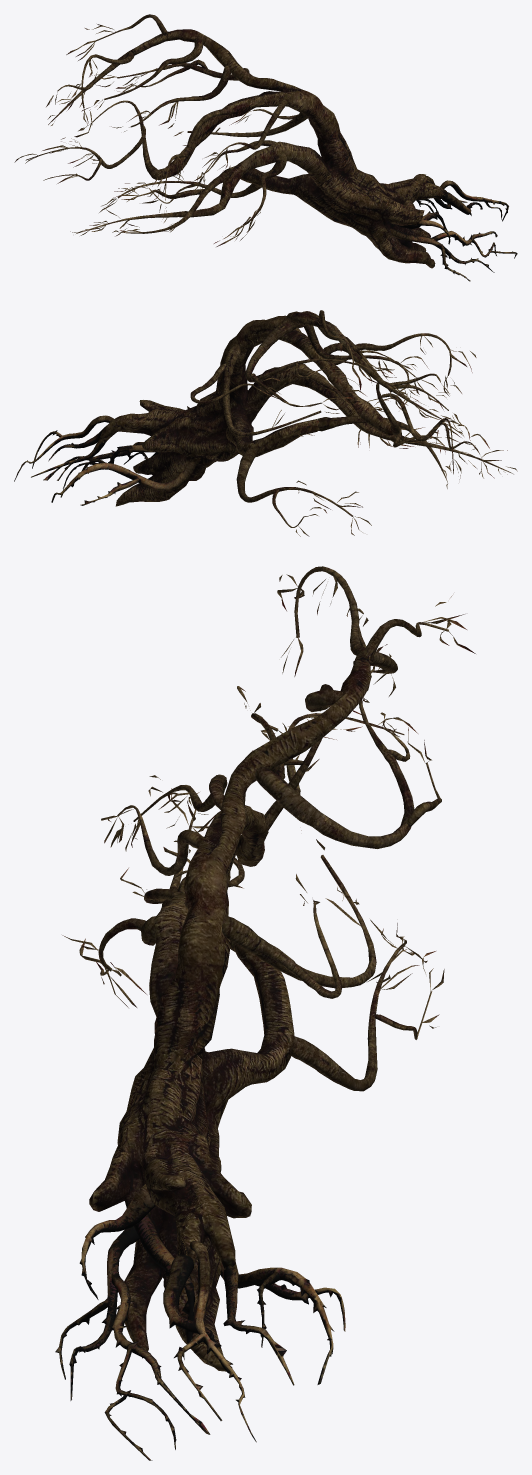
Rendered from flood-fallen-tree.glb.
3 views of the same model, one above another, from view 1: azimuth 30°, elevation 25°; view 2: azimuth 150°, elevation 25°; view 3: azimuth 270°, elevation 25° (orthographic). The views are drawn at different scales.
Parts seen in each view (by area): view 1: flood-fallen-tree; view 2: flood-fallen-tree; view 3: flood-fallen-tree.
Boxes of the visible parts, bbox=[...] form: flood-fallen-tree: bbox=[14, 14, 517, 281]; flood-fallen-tree: bbox=[14, 310, 517, 536]; flood-fallen-tree: bbox=[55, 566, 475, 1460].
Bounding box in the file's own units: 5.47 × 3.2 × 2.23.
Materials: 4 (4 with a texture image).
